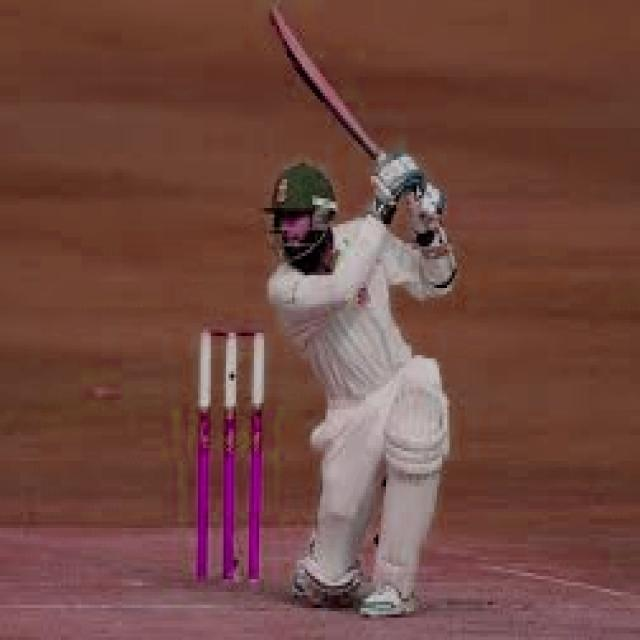bat: (257, 3, 393, 176)
